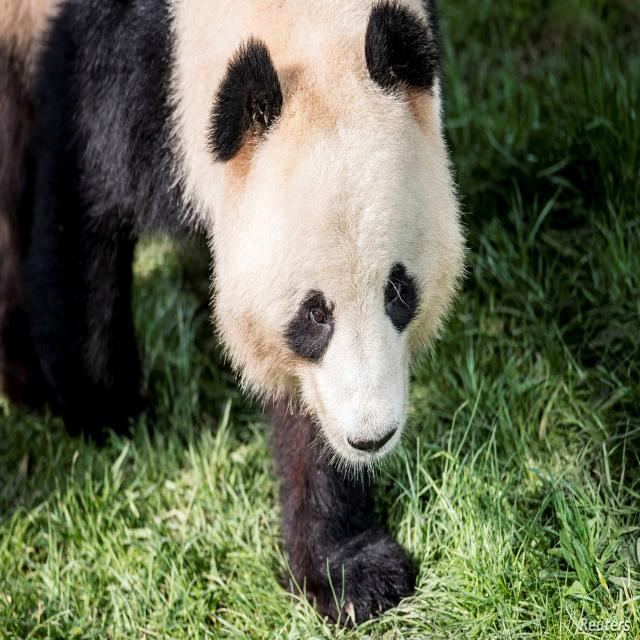panda: (0, 0, 465, 624)
